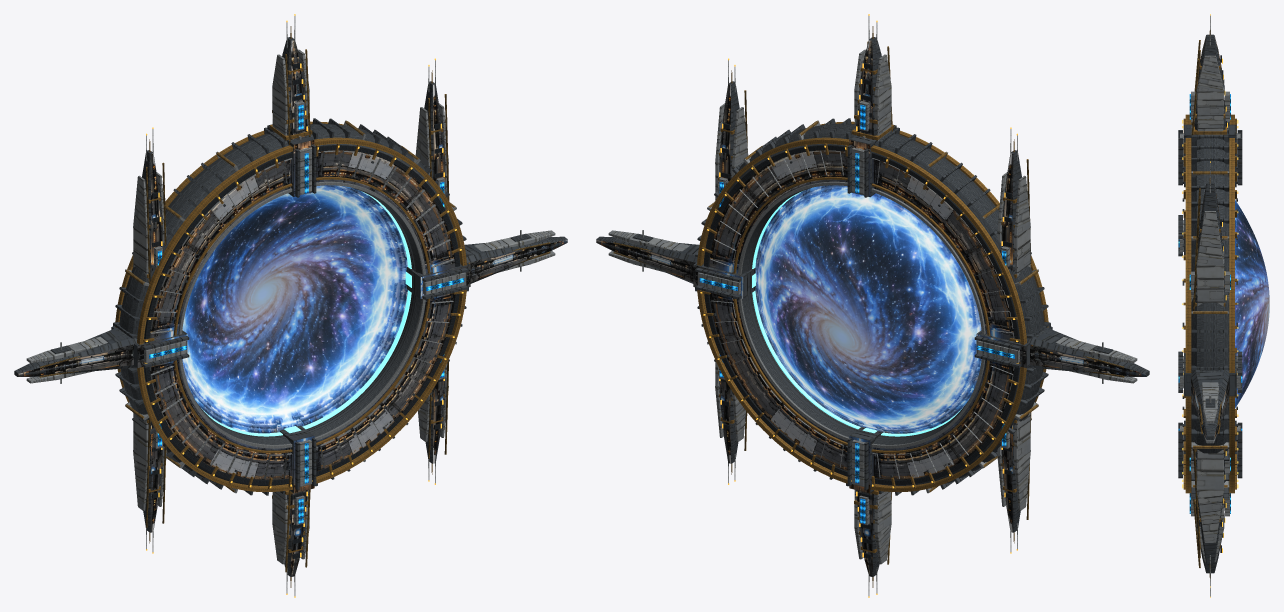
File: wormhole-hub.glb
3 renders of one model, left to right at view 1: azimuth 30°, elevation 25°; view 2: azimuth 150°, elevation 25°; view 3: azimuth 270°, elevation 25°, orthographic.
Parts seen in each view (by area): view 1: wormhole / Wormhole membrane / reference galaxy, station-hardware / Reference-projected steel armor, station-hardware / Graphite structural plating, station-hardware / Titanium panel armor, station-hardware / Warm machined brass, station-hardware / Recessed radiator graphite, containment-field / Electric blue containment light, station-hardware / Cyan reactor cells; view 2: wormhole / Wormhole membrane / reference galaxy, station-hardware / Reference-projected steel armor, station-hardware / Graphite structural plating, station-hardware / Titanium panel armor, station-hardware / Warm machined brass, station-hardware / Recessed radiator graphite, station-hardware / Cyan reactor cells, containment-field / Electric blue containment light; view 3: station-hardware / Graphite structural plating, station-hardware / Titanium panel armor, station-hardware / Warm machined brass, wormhole / Wormhole membrane / reference galaxy, station-hardware / Reference-projected steel armor, station-hardware / Amber navigation lights, station-hardware / Cyan reactor cells, station-hardware / Recessed radiator graphite.
Boxes of the visible parts, bbox=[...] form: wormhole / Wormhole membrane / reference galaxy: bbox=[182, 185, 407, 433]; station-hardware / Reference-projected steel armor: bbox=[18, 40, 567, 576]; station-hardware / Graphite structural plating: bbox=[14, 37, 567, 576]; station-hardware / Titanium panel armor: bbox=[26, 16, 555, 595]; station-hardware / Warm machined brass: bbox=[39, 26, 550, 587]; station-hardware / Recessed radiator graphite: bbox=[144, 62, 459, 558]; containment-field / Electric blue containment light: bbox=[201, 191, 411, 436]; station-hardware / Cyan reactor cells: bbox=[149, 105, 464, 523]; wormhole / Wormhole membrane / reference galaxy: bbox=[755, 185, 981, 433]; station-hardware / Reference-projected steel armor: bbox=[596, 40, 1145, 576]; station-hardware / Graphite structural plating: bbox=[596, 37, 1149, 576]; station-hardware / Titanium panel armor: bbox=[608, 16, 1137, 595]; station-hardware / Warm machined brass: bbox=[613, 26, 1124, 587]; station-hardware / Recessed radiator graphite: bbox=[704, 62, 1019, 558]; station-hardware / Cyan reactor cells: bbox=[699, 105, 1014, 523]; containment-field / Electric blue containment light: bbox=[752, 191, 962, 436]; station-hardware / Graphite structural plating: bbox=[1178, 34, 1242, 573]; station-hardware / Titanium panel armor: bbox=[1180, 15, 1240, 596]; station-hardware / Warm machined brass: bbox=[1183, 30, 1236, 578]; wormhole / Wormhole membrane / reference galaxy: bbox=[1235, 200, 1269, 408]; station-hardware / Reference-projected steel armor: bbox=[1191, 36, 1229, 438]; station-hardware / Amber navigation lights: bbox=[1182, 14, 1238, 597]; station-hardware / Cyan reactor cells: bbox=[1178, 94, 1242, 513]; station-hardware / Recessed radiator graphite: bbox=[1194, 55, 1226, 552].
Bounding box in the file's own units: 17.1 × 17.34 × 2.47.
Materials: 9 (7 with a texture image).
